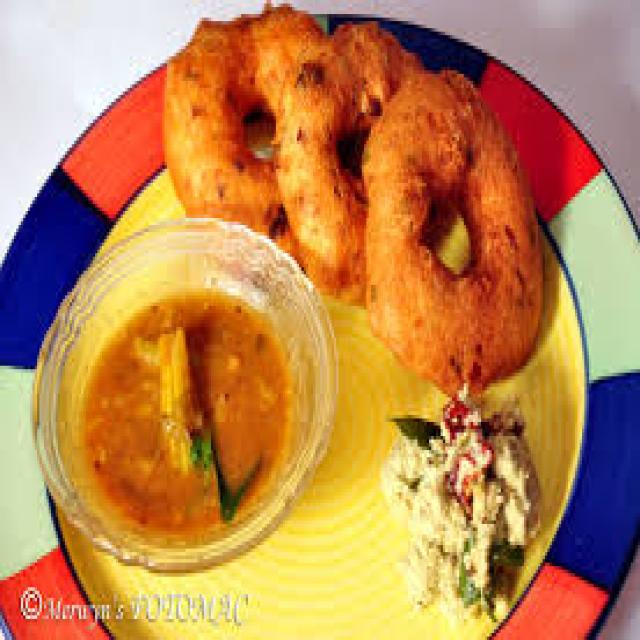MEDU VADA: (360, 76, 538, 386), (268, 24, 427, 306), (167, 12, 320, 252)
